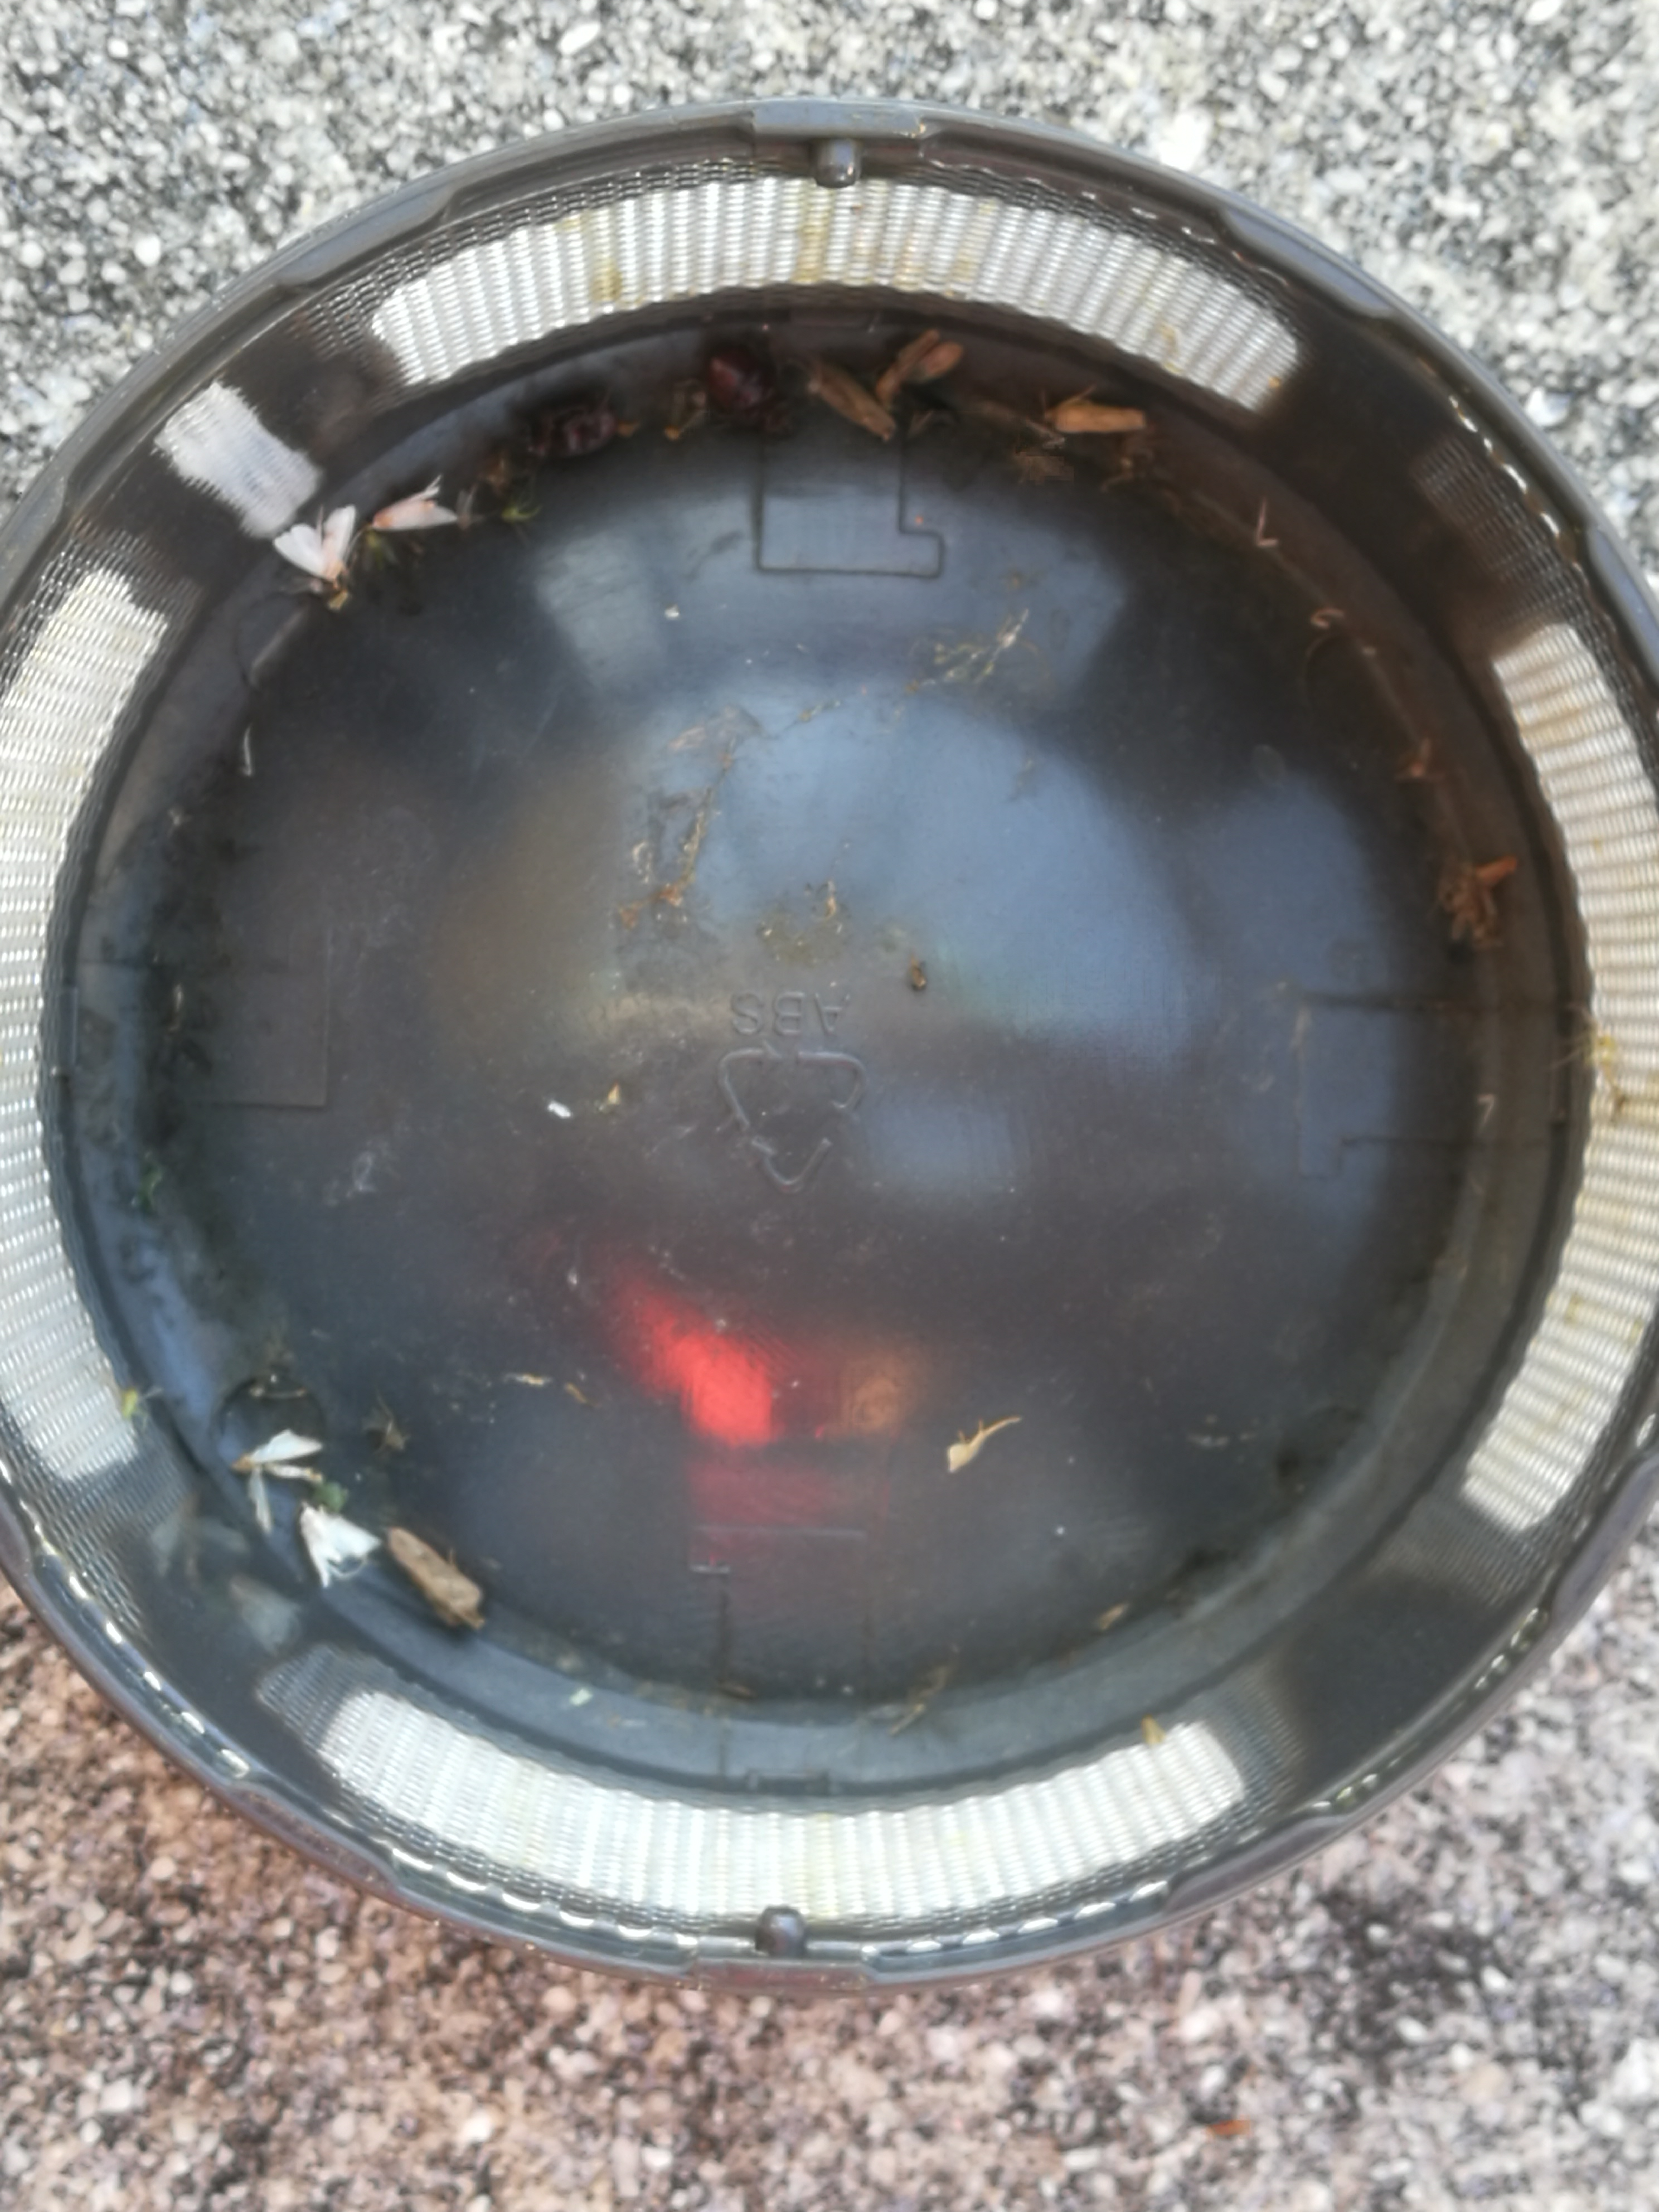beetle: (709, 345, 791, 432), (525, 401, 615, 456)
mosquito: (385, 1529, 483, 1632), (875, 327, 960, 408), (812, 361, 896, 439), (228, 1430, 324, 1484), (1039, 399, 1143, 435)
moth: (301, 1500, 382, 1588), (274, 503, 357, 578), (369, 475, 458, 531)
